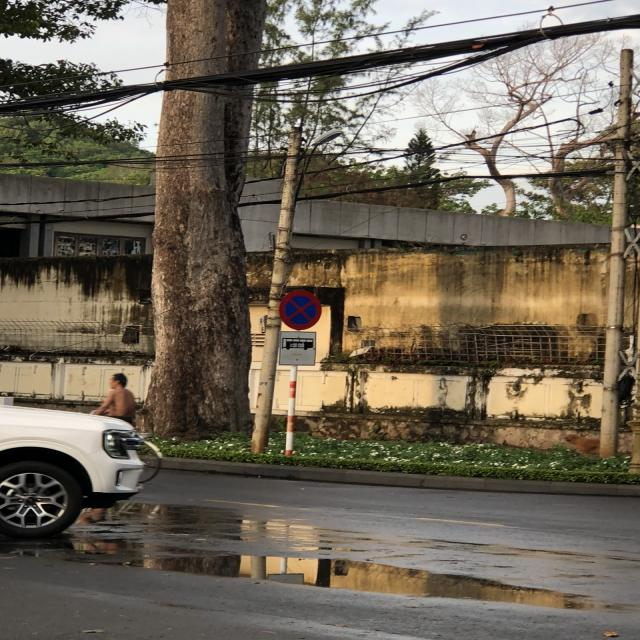Bien bao cam dung xe va do xe: (277, 286, 325, 330)
